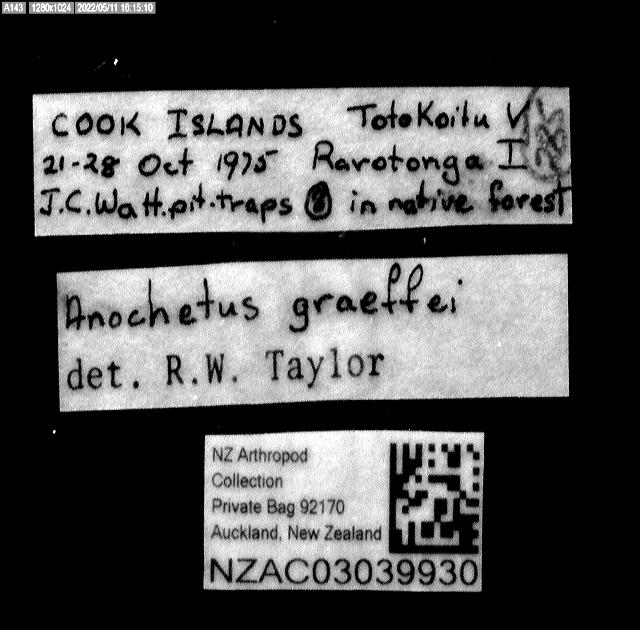hand_label: (34, 88, 571, 236)
mixed_label: (58, 255, 569, 411)
typed_label: (204, 430, 484, 592)
